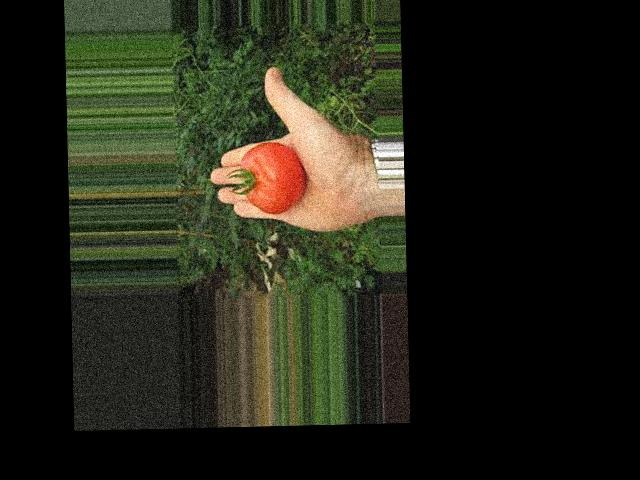tomato: (241, 140, 305, 215)
